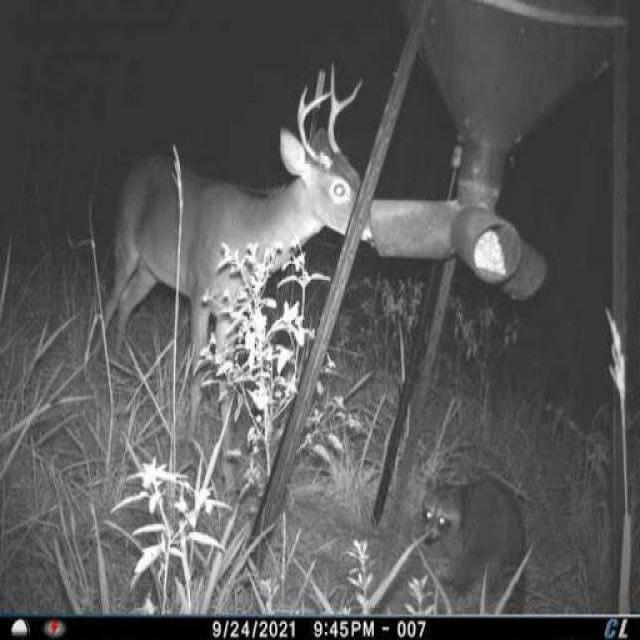deer: (85, 59, 370, 522)
